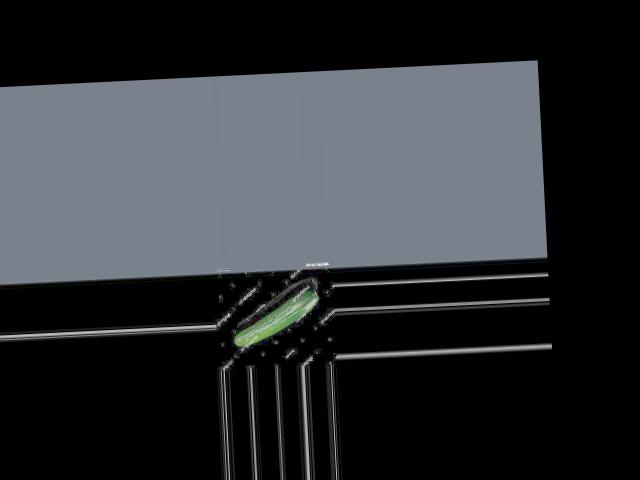cucumber: (230, 288, 320, 347)
